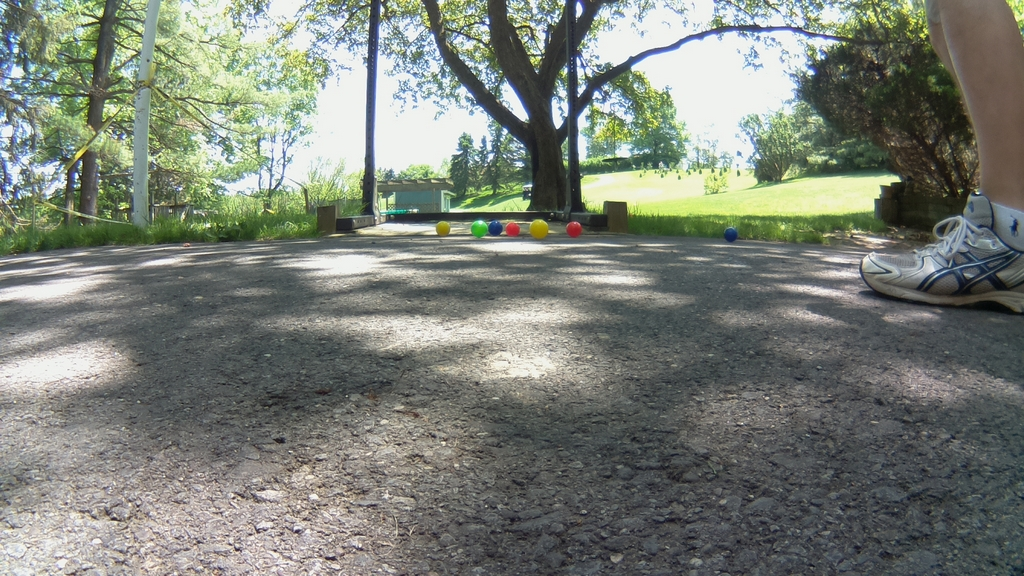ball: (529, 219, 549, 238)
